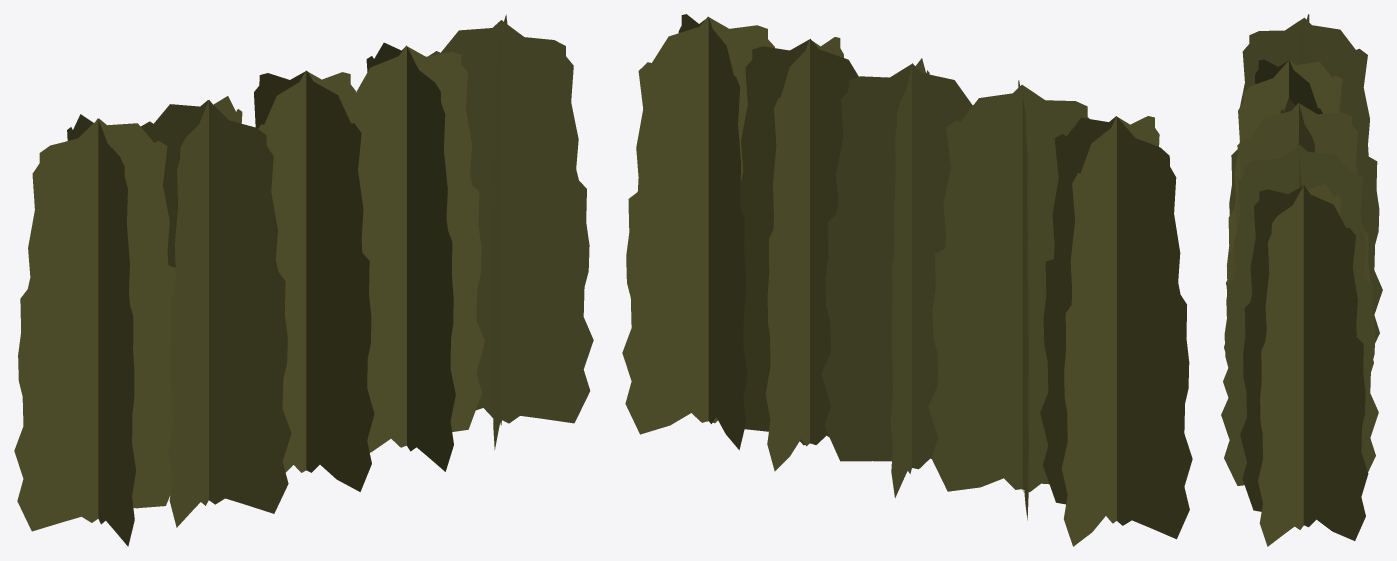
The model's file is Tree6.fbx.
3 renders of one model, left to right at view 1: azimuth 30°, elevation 25°; view 2: azimuth 150°, elevation 25°; view 3: azimuth 270°, elevation 25°, orthographic. The views are drawn at different scales.
Visible parts, largest first — view 1: Flat_half_tree.006; view 2: Flat_half_tree.006; view 3: Flat_half_tree.006.
Part boxes in pixels (x1,y1,x2,y2): Flat_half_tree.006: (14, 14, 593, 546); Flat_half_tree.006: (622, 14, 1192, 546); Flat_half_tree.006: (1221, 14, 1382, 546).
Size of the model in its own units: 2.45 by 1.72 by 0.7365.
